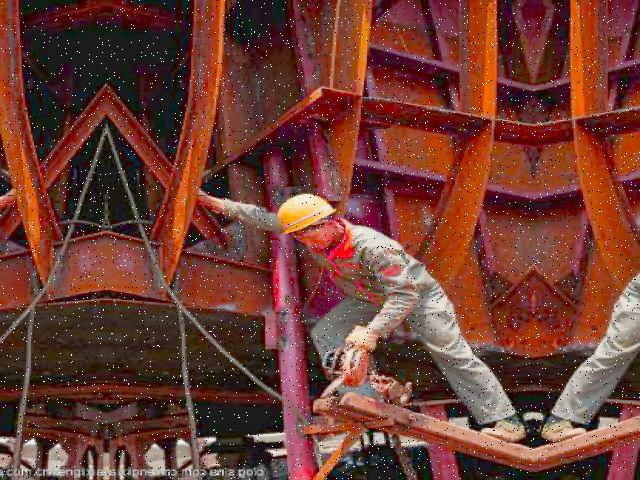Helmet: (276, 188, 342, 243)
